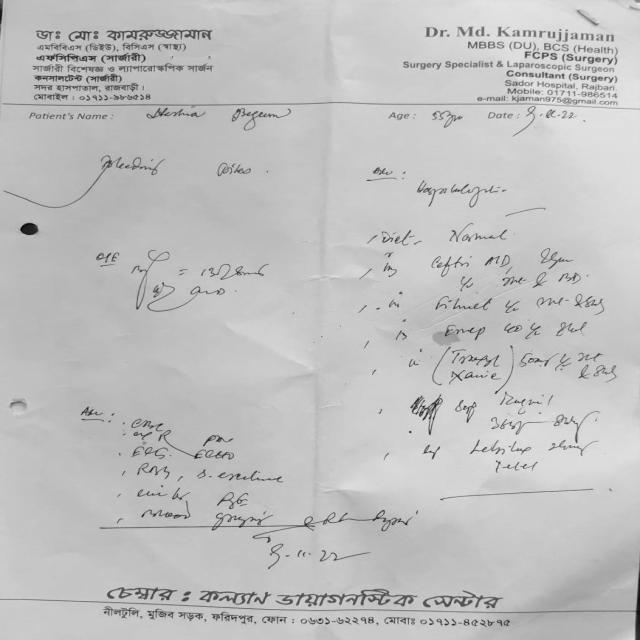medicine: (428, 290, 496, 318), (434, 321, 491, 344), (423, 254, 476, 275)
